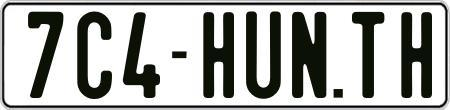4: (123, 9, 163, 99)
7: (27, 10, 65, 101)
C: (76, 11, 116, 99)
H: (401, 11, 437, 98), (203, 11, 234, 103)
N: (291, 11, 326, 97)
T: (350, 12, 384, 101)
U: (244, 9, 280, 102)
